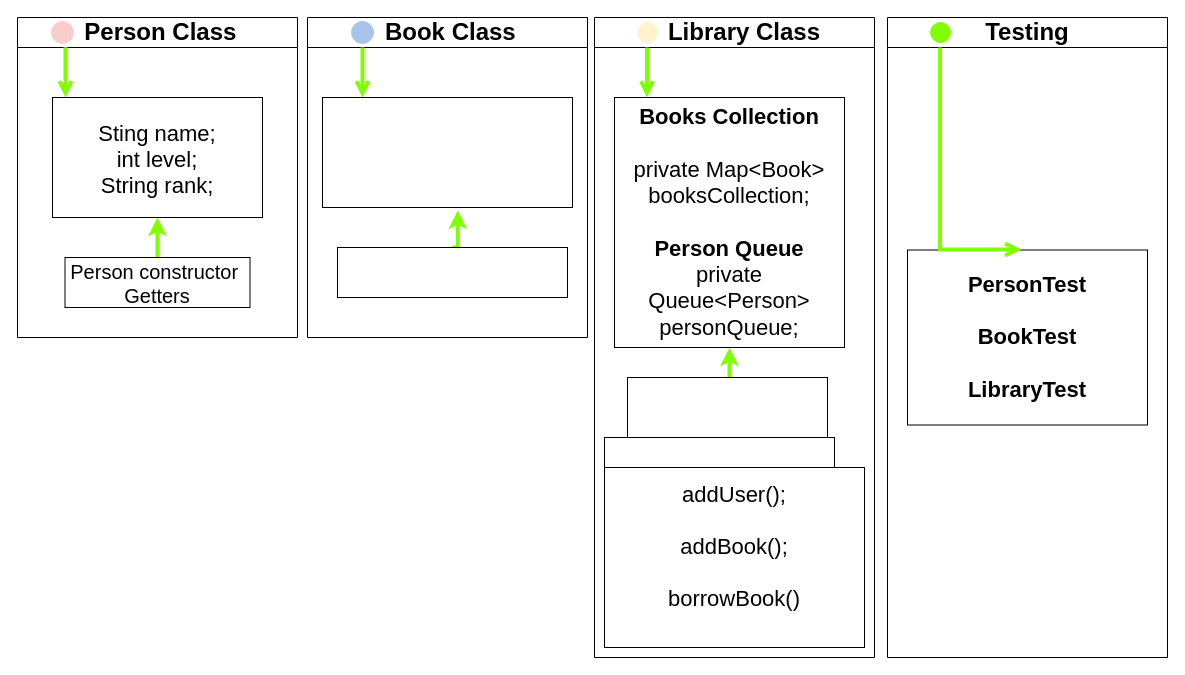
Image size: 1185x675. Some labels were removed from this diagram. Here are the shapes that lost their labels. From the top down, the centre of each, then its label:
(x=447, y=152): private String name; private String title; private String author;
(x=452, y=272): Book Constructor Getters
(x=727, y=407): Library Constructor Getters
(x=719, y=452): Methods
